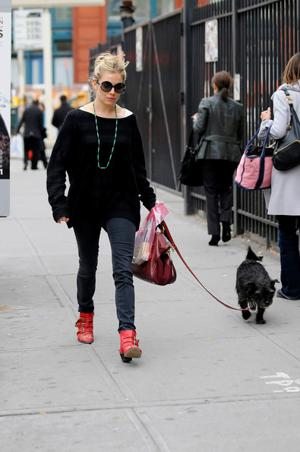person: (48, 51, 157, 360)
